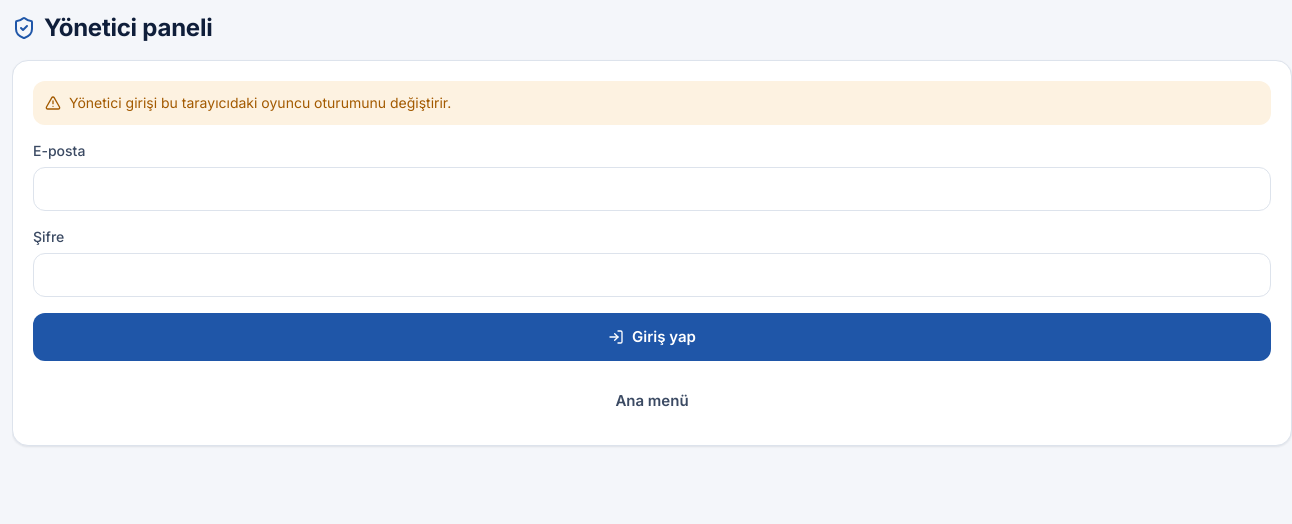
Test: AdminScreen giriş › başarısız girişte hata gösterir
Step 1. Type "admin@ornek.com" into the field labelled "E-posta" → (652, 189), box [33,167,1271,211]
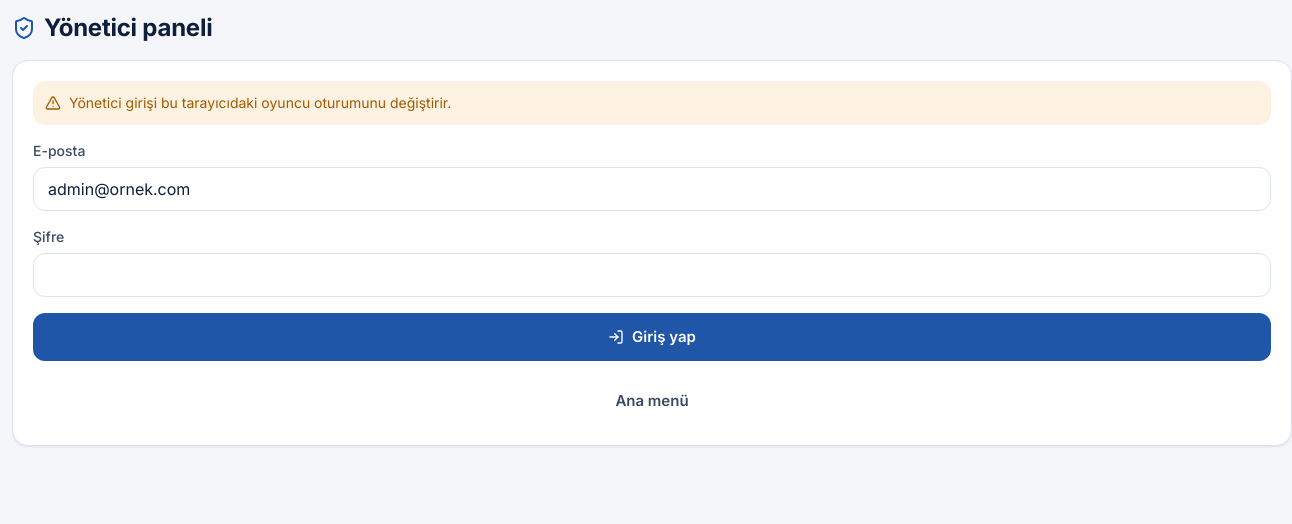
Step 2. Type "yanlis" into the password field labelled "Şifre" → (652, 275), box [33,253,1271,297]
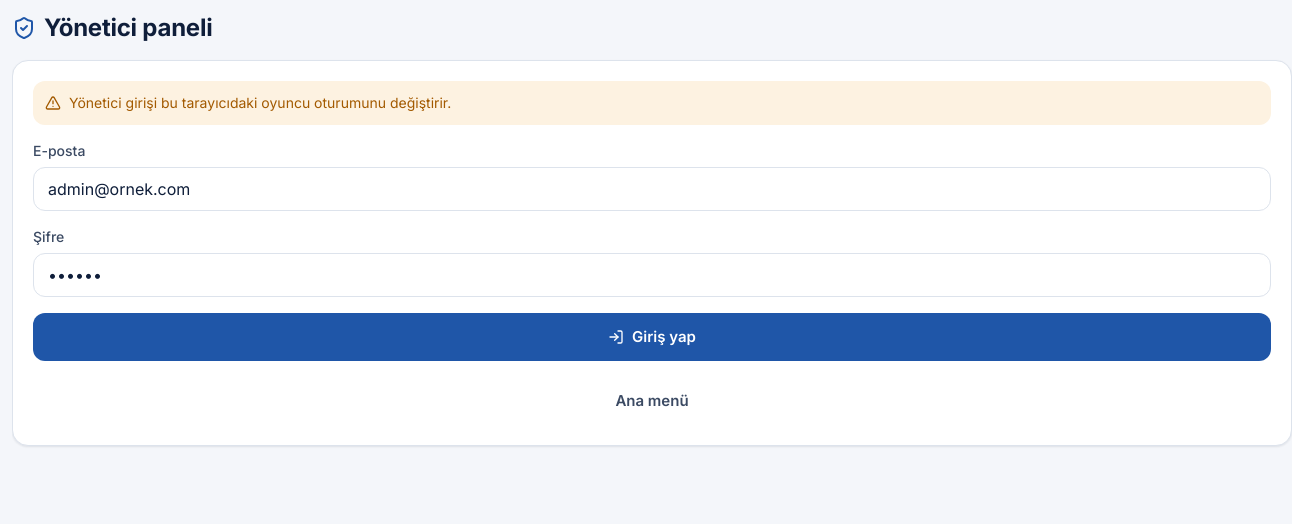
Step 3. Click the button "Giriş yap" → (652, 337), box [33,313,1271,361]
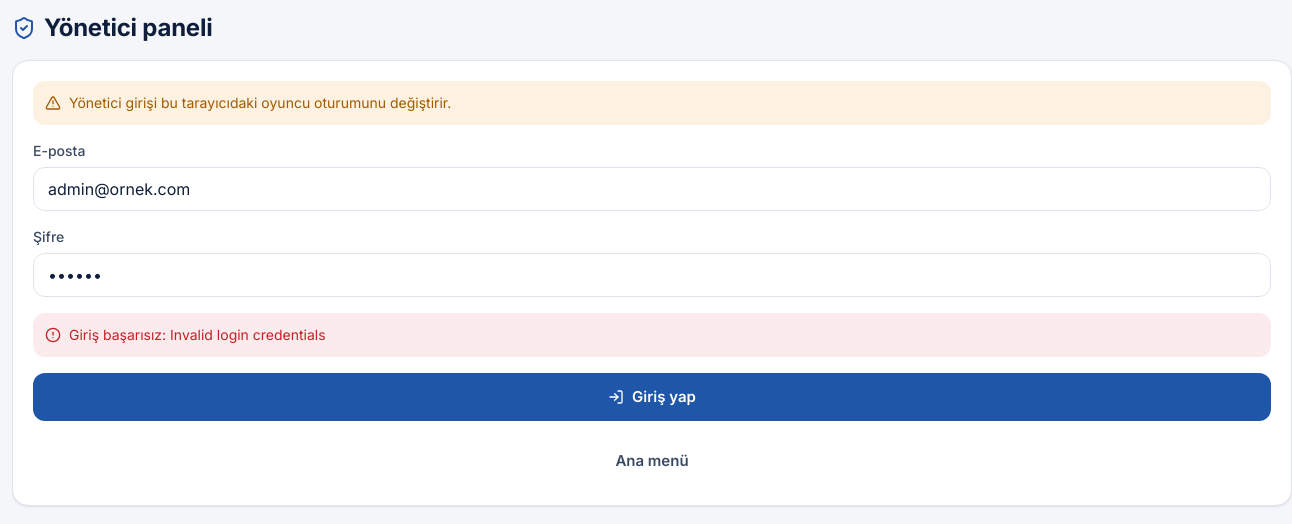
Result: the message reads "Giriş başarısız: Invalid login credentials" at [69,326,326,343]
